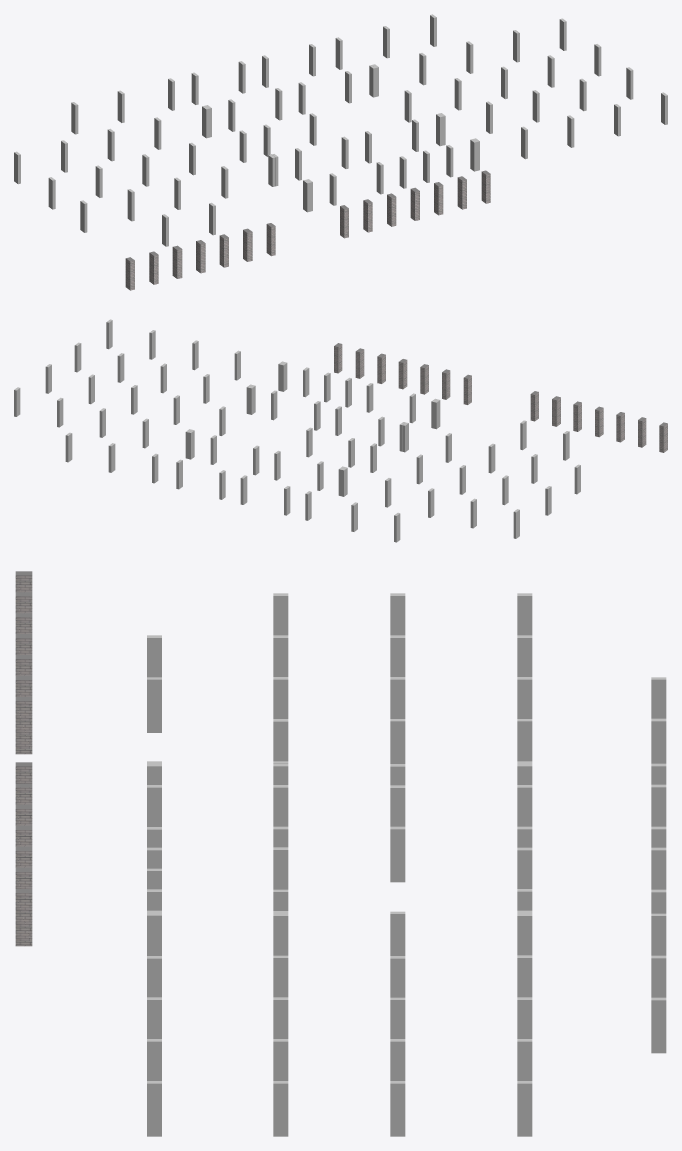
File: columns.dae
3 views of the same model, one above another, from view 1: azimuth 30°, elevation 25°; view 2: azimuth 150°, elevation 25°; view 3: azimuth 270°, elevation 25° (orthographic). The views are drawn at different scales.
Visible parts, largest first — view 1: Columns; view 2: Columns; view 3: Columns.
Part boxes in pixels (left/top/right/bottom): Columns: left=14, top=14, right=667, bottom=290; Columns: left=14, top=319, right=667, bottom=542; Columns: left=15, top=571, right=666, bottom=1136.
Size of the model in its own units: 62.09 by 33.33 by 3.
Materials: 2 (1 with a texture image).
